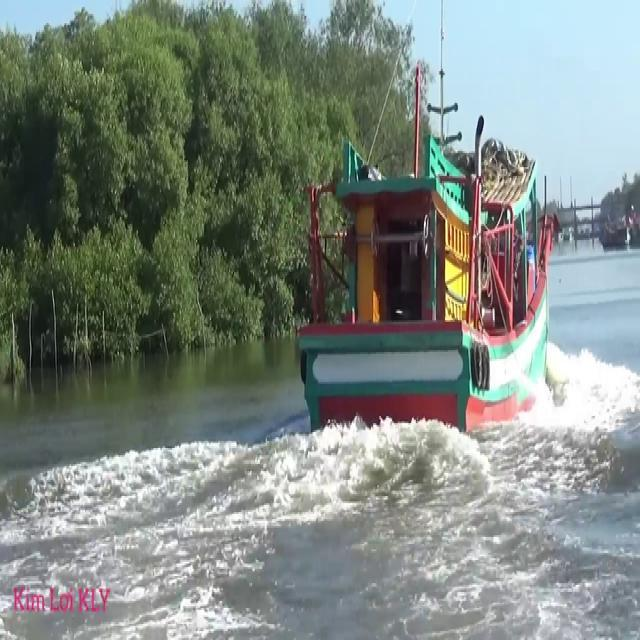Ship: (290, 112, 557, 442)
